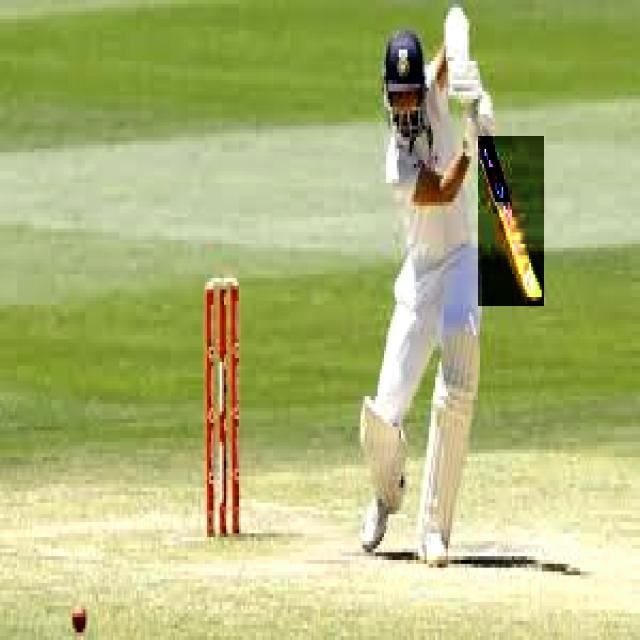bat: (478, 136, 546, 306)
toe: (520, 286, 547, 304)
